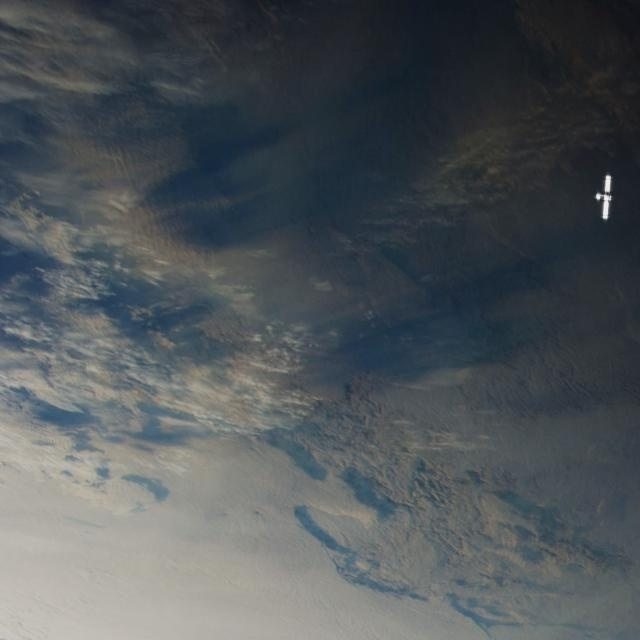satellite: (591, 169, 625, 230)
